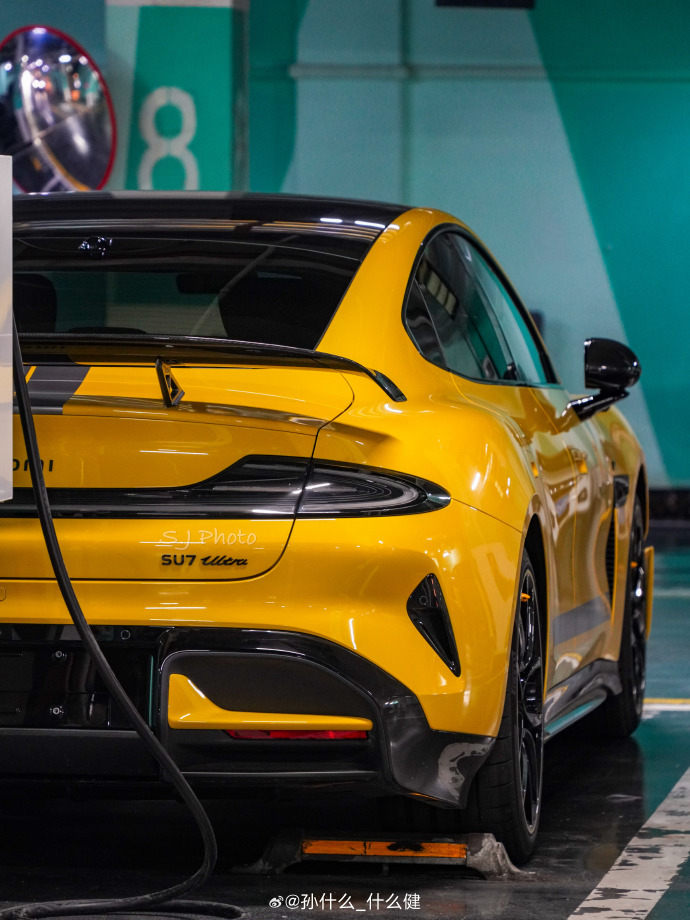su7: (0, 192, 661, 864)
